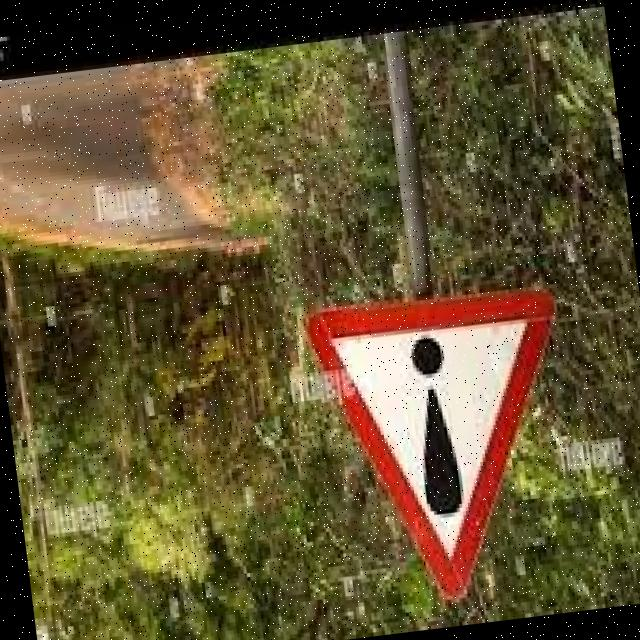warning: (302, 266, 592, 612)
